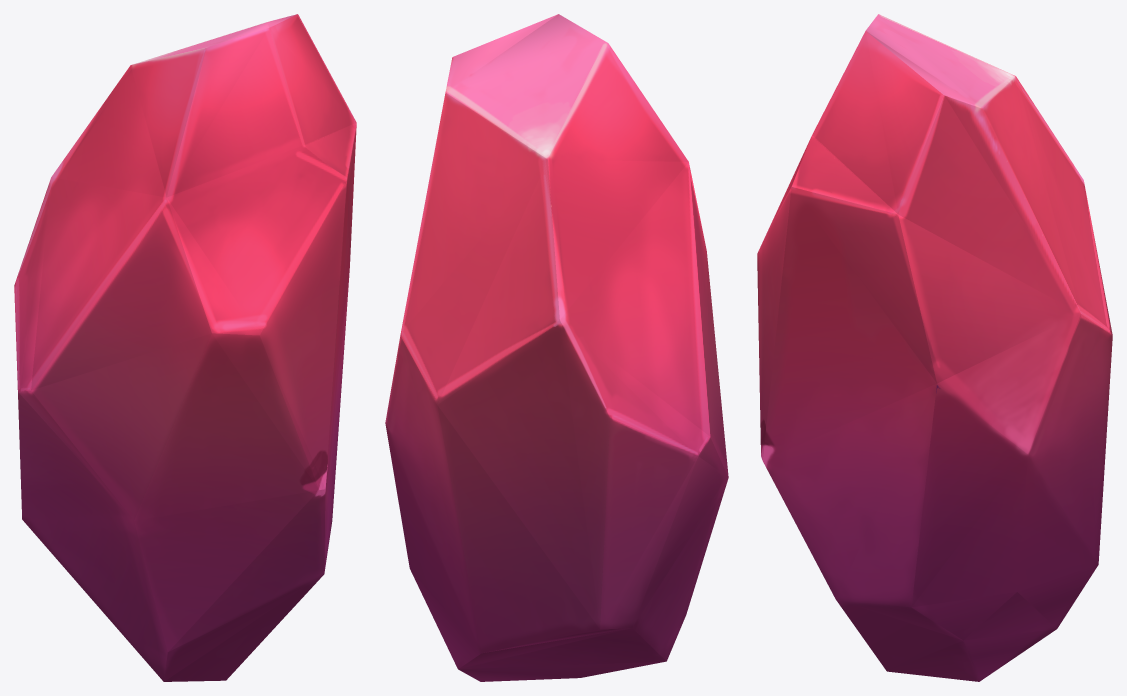
The model's file is Crystal_03.glb.
The picture shows the model from 3 angles, left to right: view 1: azimuth 30°, elevation 25°; view 2: azimuth 150°, elevation 25°; view 3: azimuth 270°, elevation 25°; orthographic projection.
Visible parts, largest first — view 1: Object_2.001; view 2: Object_2.001; view 3: Object_2.001.
Boxes of the visible parts, x1,y1,x2,y2 form: Object_2.001: (14, 14, 356, 681); Object_2.001: (385, 14, 728, 681); Object_2.001: (757, 14, 1112, 681).
Bounding box in the file's own units: 1.61 × 3.22 × 1.58.
Materials: 1 (1 with a texture image).
